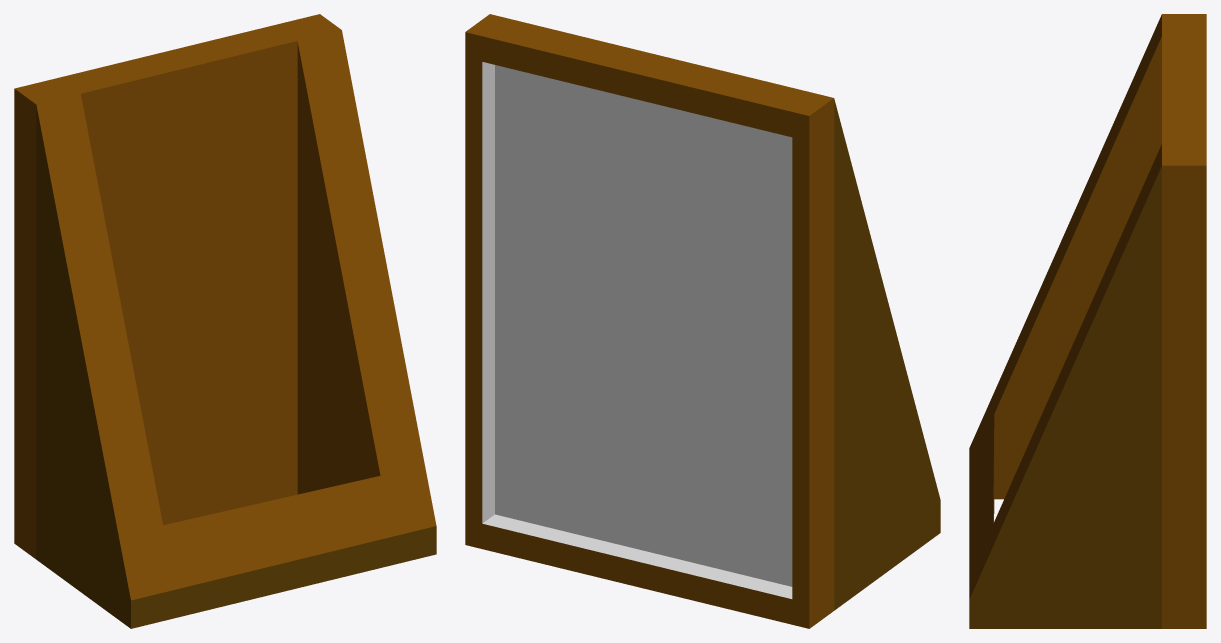
Rendered from Mirror.fbx.
3 renders of one model, left to right at view 1: azimuth 30°, elevation 25°; view 2: azimuth 150°, elevation 25°; view 3: azimuth 270°, elevation 25°, orthographic. The views are drawn at different scales.
Parts seen in each view (by area): view 1: Mirror; view 2: Glass, Mirror; view 3: Mirror.
Boxes of the visible parts, box(x1,y1,x2,y2) form: Mirror: box(14, 14, 436, 628); Glass: box(482, 62, 792, 598); Mirror: box(465, 14, 940, 628); Mirror: box(969, 14, 1206, 628).
Bounding box in the file's own units: 70.25 × 46.43 × 100.
